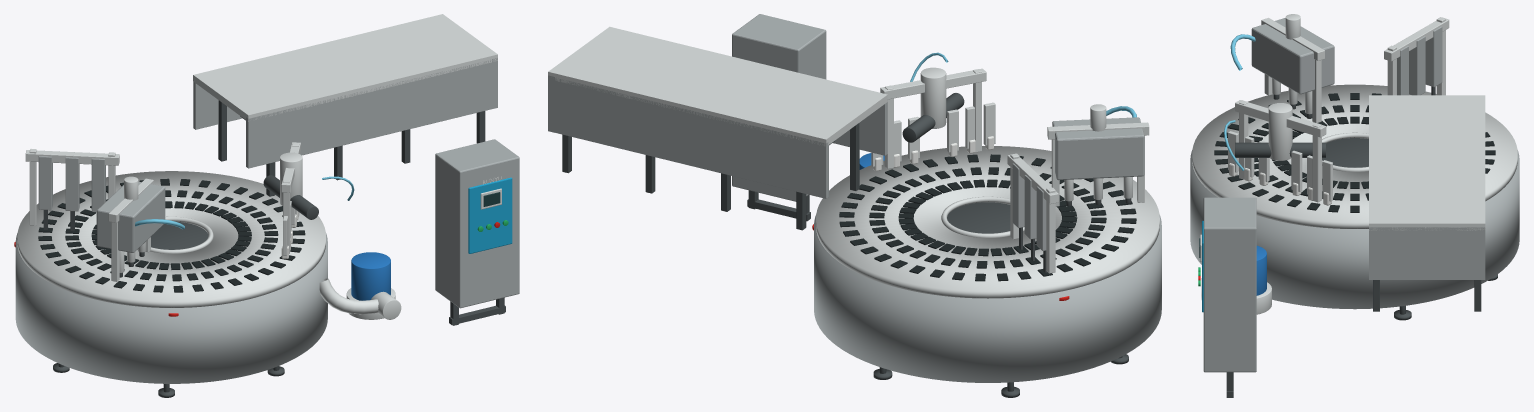
File: danxiao-rxgj-6.glb
3 renders of one model, left to right at view 1: azimuth 30°, elevation 25°; view 2: azimuth 150°, elevation 25°; view 3: azimuth 270°, elevation 25°, orthographic. The views are drawn at different scales.
Parts seen in each view (by area): view 1: tank.outer_jacket, tank.top_deck, guard.roof, guard.inner_side, controls.cabinet, filling.product_box, controls.blue_fascia, utilities.brine_pump.motor, tank.center_well, guard.outer_side, utilities.brine_return, stick.frame.crossbeam (+11 smaller); view 2: tank.outer_jacket, tank.top_deck, guard.roof, guard.outer_side, controls.cabinet, filling.product_box, tank.center_well, pickup.air_cylinder, guard.inner_side, pickup.frame.crossbeam, tank.center_well_rim, pickup.cross_shaft (+10 smaller); view 3: guard.roof, tank.outer_jacket, tank.top_deck, controls.cabinet, guard.end_panel, filling.product_box, pickup.air_cylinder, tank.center_well, stick.magazine.03, pickup.frame.crossbeam, pickup.cross_shaft, stick.magazine.02 (+14 smaller).
Boxes of the visible parts, x1,y1,x2,y2 form: tank.outer_jacket: (15,233,327,383); tank.top_deck: (17,171,325,307); guard.roof: (193,14,497,121); guard.inner_side: (246,59,497,168); controls.cabinet: (435,139,519,308); filling.product_box: (97,181,165,252); controls.blue_fascia: (468,177,512,253); utilities.brine_pump.motor: (351,252,390,300); tank.center_well: (151,221,208,249); guard.outer_side: (193,82,242,129); utilities.brine_return: (319,278,378,314); stick.frame.crossbeam: (25,150,119,165); tank.outer_jacket: (814,214,1161,382); tank.top_deck: (816,146,1159,298); guard.roof: (548,26,887,146); guard.outer_side: (555,77,828,198); controls.cabinet: (732,14,826,201); filling.product_box: (1052,117,1144,180); tank.center_well: (947,202,1010,233); pickup.air_cylinder: (920,67,946,128); guard.inner_side: (833,102,887,155); pickup.frame.crossbeam: (880,68,986,99); tank.center_well_rim: (941,196,1024,237); pickup.cross_shaft: (902,93,964,142); guard.roof: (1369,95,1485,230); tank.outer_jacket: (1190,150,1519,309); tank.top_deck: (1192,84,1517,228); controls.cabinet: (1203,197,1256,372); guard.end_panel: (1369,227,1485,279); filling.product_box: (1251,18,1334,94); pickup.air_cylinder: (1268,103,1292,160); tank.center_well: (1322,138,1368,167); stick.magazine.03: (1425,26,1442,86); pickup.frame.crossbeam: (1235,100,1326,137); pickup.cross_shaft: (1235,142,1325,157); stick.magazine.02: (1409,36,1425,95).
Size of the model in its own units: 4.5 by 1.82 by 2.6.
